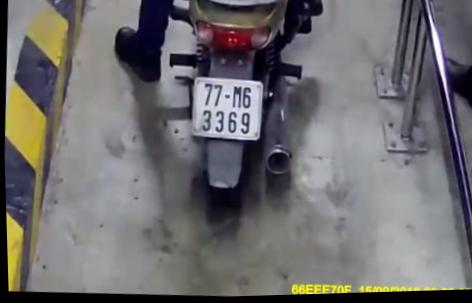LP: (186, 73, 265, 146)
